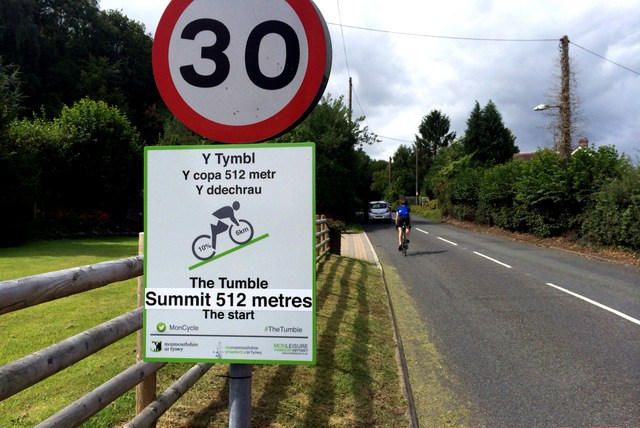Speed_limit_30km: (150, 1, 329, 145)
